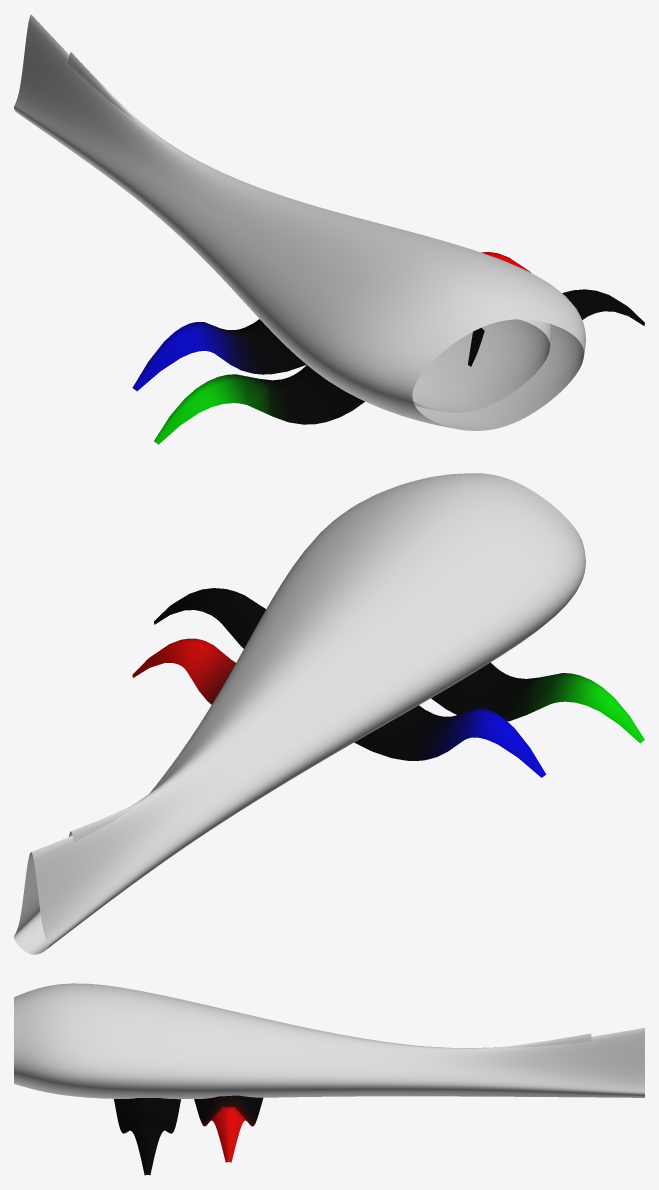
The model's file is enemy four.fbx.
3 renders of one model, top to bottom at view 1: azimuth 30°, elevation 25°; view 2: azimuth 150°, elevation 25°; view 3: azimuth 270°, elevation 25°, orthographic. The views are drawn at different scales.
Parts seen in each view (by area): view 1: body, arms; view 2: body, arms; view 3: body, arms.
Part boxes in pixels (<box>): body: <box>14,14,585,430</box>; arms: <box>132,252,644,444</box>; body: <box>14,473,585,954</box>; arms: <box>132,588,644,777</box>; body: <box>14,983,644,1099</box>; arms: <box>114,1095,263,1175</box>.
Bounding box in the file's own units: 86.49 × 25.91 × 143.
